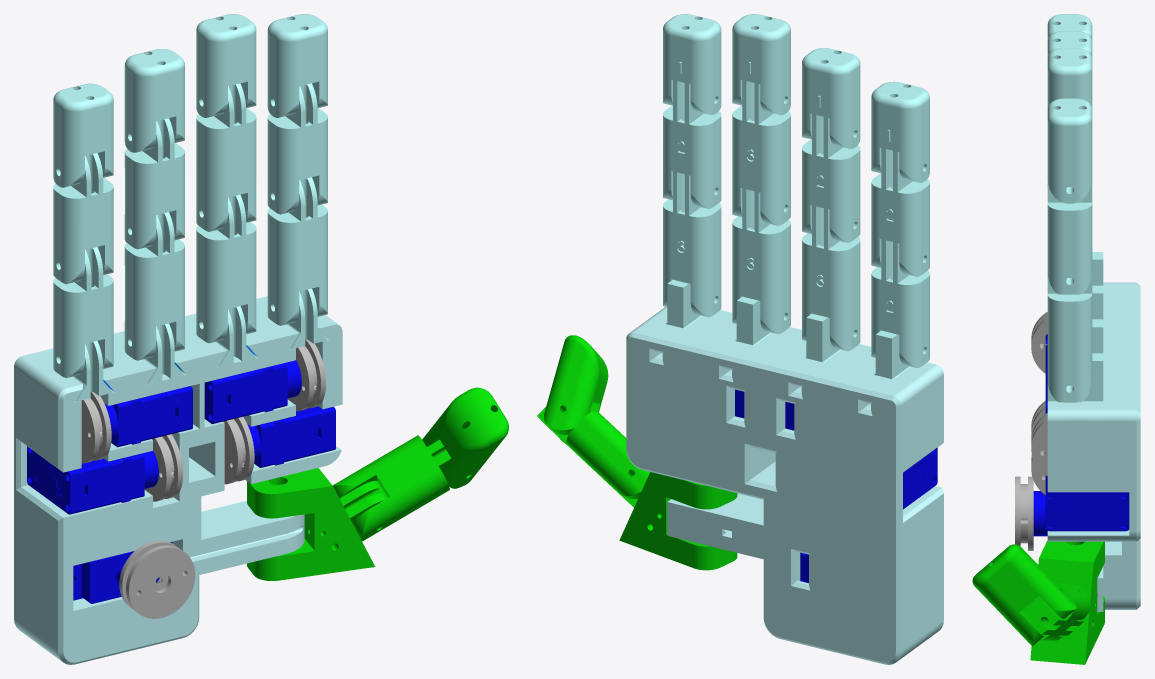
The model's file is hand-part.glb.
3 renders of one model, left to right at view 1: azimuth 30°, elevation 25°; view 2: azimuth 150°, elevation 25°; view 3: azimuth 270°, elevation 25°, orthographic. The views are drawn at different scales.
Parts seen in each view (by area): view 1: right_hand_ver2; view 2: right_hand_ver2; view 3: right_hand_ver2.
Boxes of the visible parts, box(x1,y1,x2,y2) form: right_hand_ver2: box(14, 14, 508, 664); right_hand_ver2: box(537, 14, 943, 664); right_hand_ver2: box(972, 14, 1140, 664).
Size of the model in its own units: 0.1257 by 0.171 by 0.0452.
